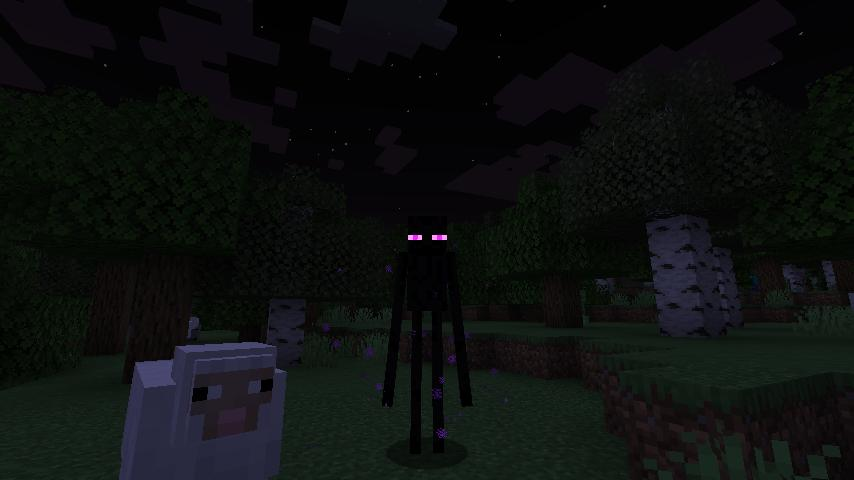enderman: (382, 211, 476, 460)
sheep: (116, 336, 286, 480)
